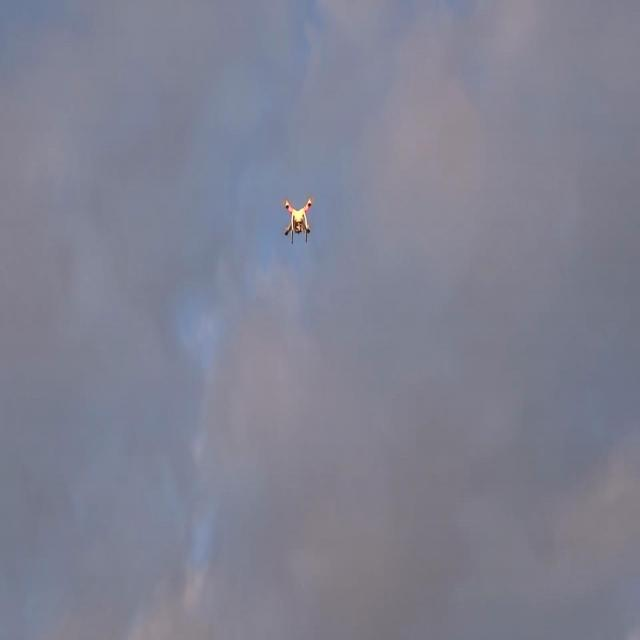drones: (275, 190, 322, 250)
